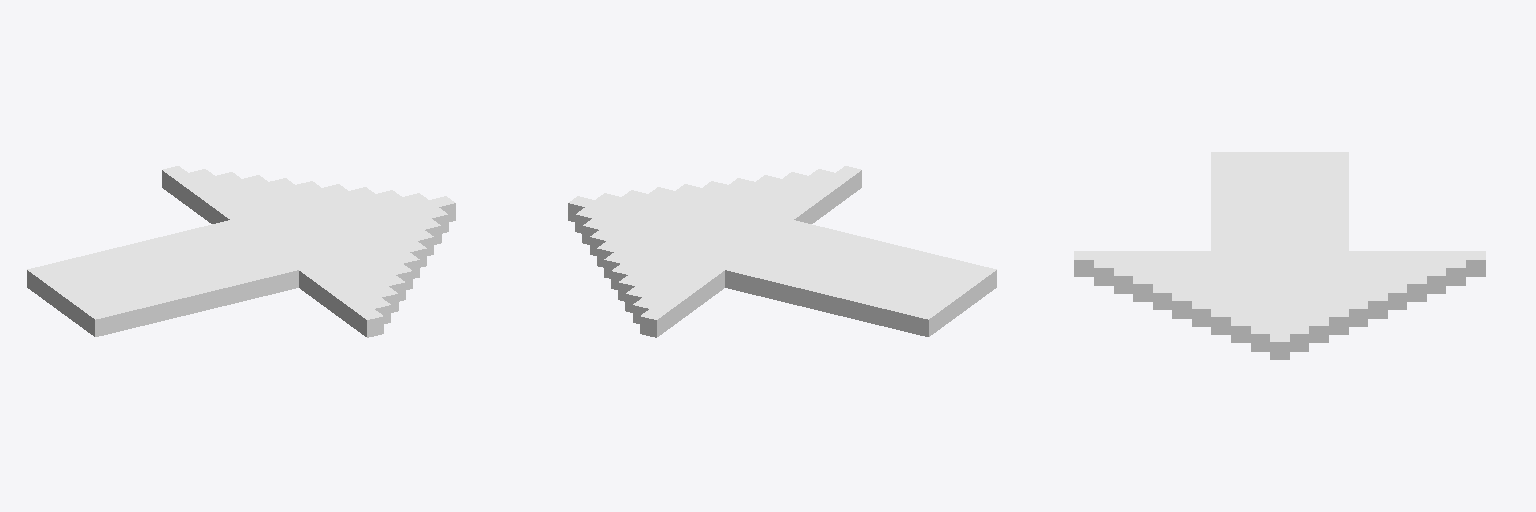
Rendered from yazirushi.obj.
The picture shows the model from 3 angles: view 1: azimuth 30°, elevation 25°; view 2: azimuth 150°, elevation 25°; view 3: azimuth 270°, elevation 25°; orthographic projection.
Visible parts, largest first — view 1: object 1; view 2: object 1; view 3: object 1.
Part boxes in pixels (x1,y1,x2,y2): object 1: (27,166,455,337); object 1: (568,166,996,337); object 1: (1074,152,1485,359).
Size of the model in its own units: 2.3 by 0.1 by 2.1.